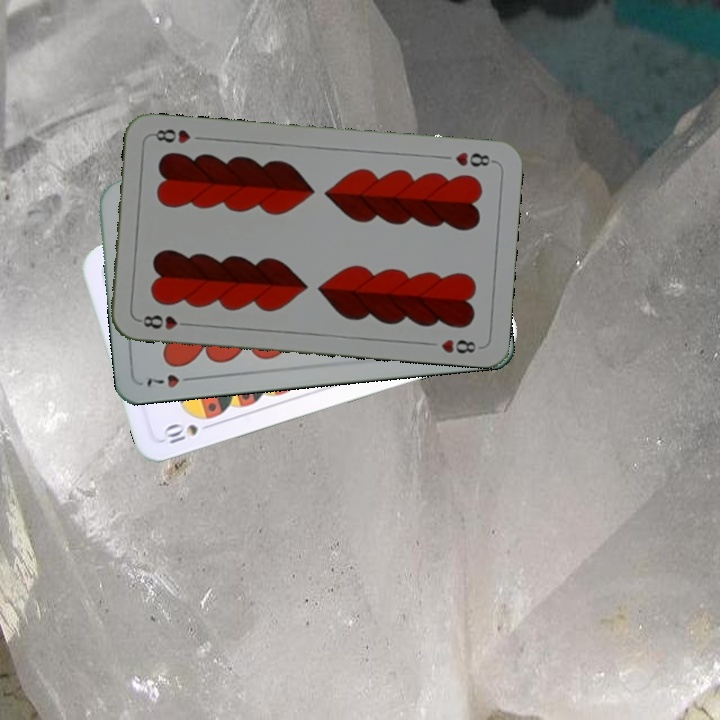H7: (143, 370, 199, 391)
H8: (135, 311, 194, 332), (451, 148, 497, 169)
S10: (159, 419, 217, 447)
